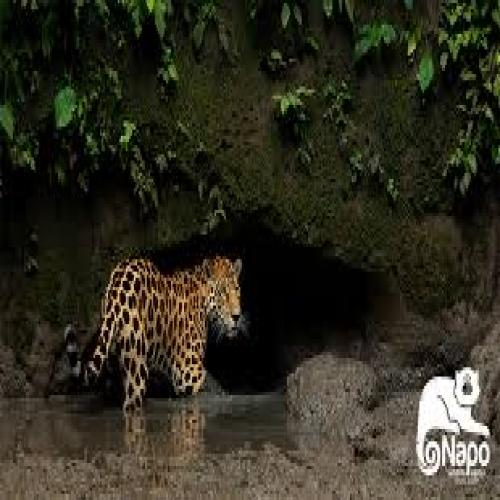jaguar_not-endangered: (92, 258, 241, 404)
